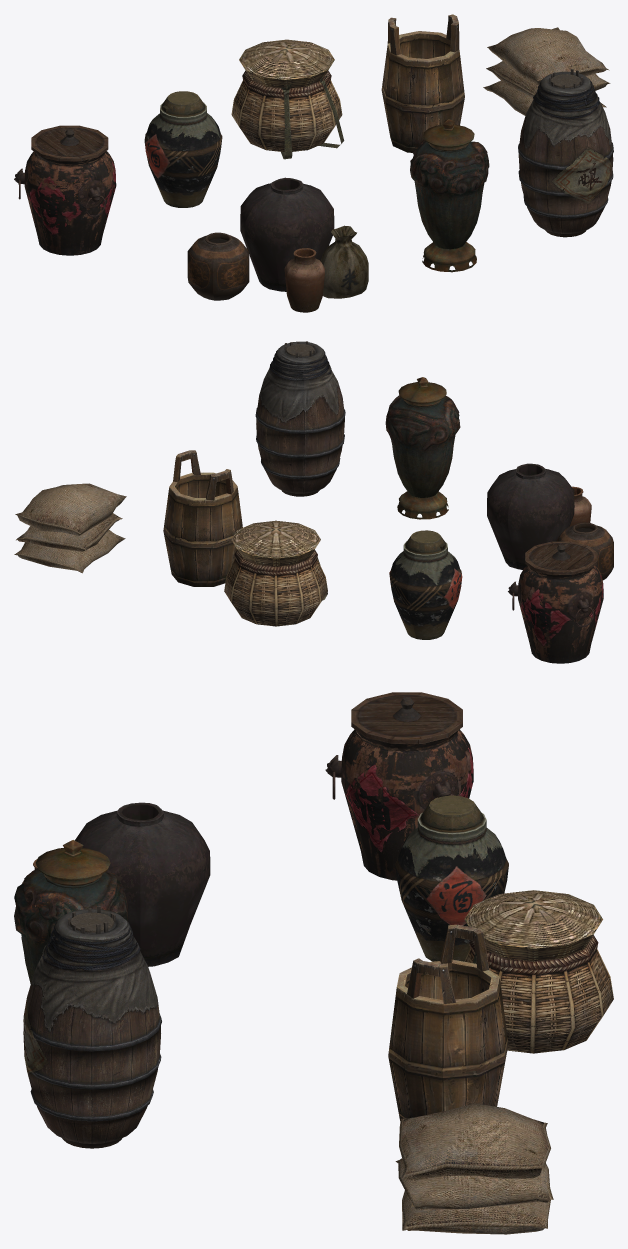
File: sundries.FBX
3 renders of one model, top to bottom at view 1: azimuth 30°, elevation 25°; view 2: azimuth 150°, elevation 25°; view 3: azimuth 270°, elevation 25°, orthographic. The views are drawn at different scales.
Parts seen in each view (by area): view 1: JJ_object_003, JH_object_019c, JH_object_008, JH_object_018e, JJ_object_x009c, JH_object_010, JH_object_018c, JH_object_012; view 2: JH_object_019c, JH_object_018e, JH_object_008, JJ_object_003, JH_object_010, JJ_object_x009c, JH_object_012, JH_object_018c; view 3: JH_object_019c, JH_object_012, JH_object_008, JH_object_010, JH_object_018e, JJ_object_003, JH_object_018c, JJ_object_x009c.
Boxes of the visible parts, <box> form: JJ_object_003: <box>187,177,368,312</box>; JH_object_019c: <box>518,69,613,237</box>; JH_object_008: <box>231,39,344,159</box>; JH_object_018e: <box>14,125,116,255</box>; JJ_object_x009c: <box>410,119,489,272</box>; JH_object_010: <box>381,14,464,152</box>; JH_object_018c: <box>144,91,222,207</box>; JH_object_012: <box>483,27,610,115</box>; JH_object_019c: <box>255,341,345,496</box>; JH_object_018e: <box>508,541,603,663</box>; JH_object_008: <box>224,520,327,626</box>; JJ_object_003: <box>487,463,613,580</box>; JH_object_010: <box>163,450,242,586</box>; JJ_object_x009c: <box>385,377,460,519</box>; JH_object_012: <box>14,483,126,573</box>; JH_object_018c: <box>389,530,462,639</box>; JH_object_019c: <box>23,905,161,1148</box>; JH_object_012: <box>395,1103,553,1234</box>; JH_object_008: <box>464,890,613,1053</box>; JH_object_010: <box>388,924,508,1121</box>; JH_object_018e: <box>325,692,473,880</box>; JJ_object_003: <box>21,802,210,966</box>; JH_object_018c: <box>395,795,508,961</box>; JJ_object_x009c: <box>14,840,127,983</box>.
Bounding box in the file's own units: 1058 × 267 × 649.
